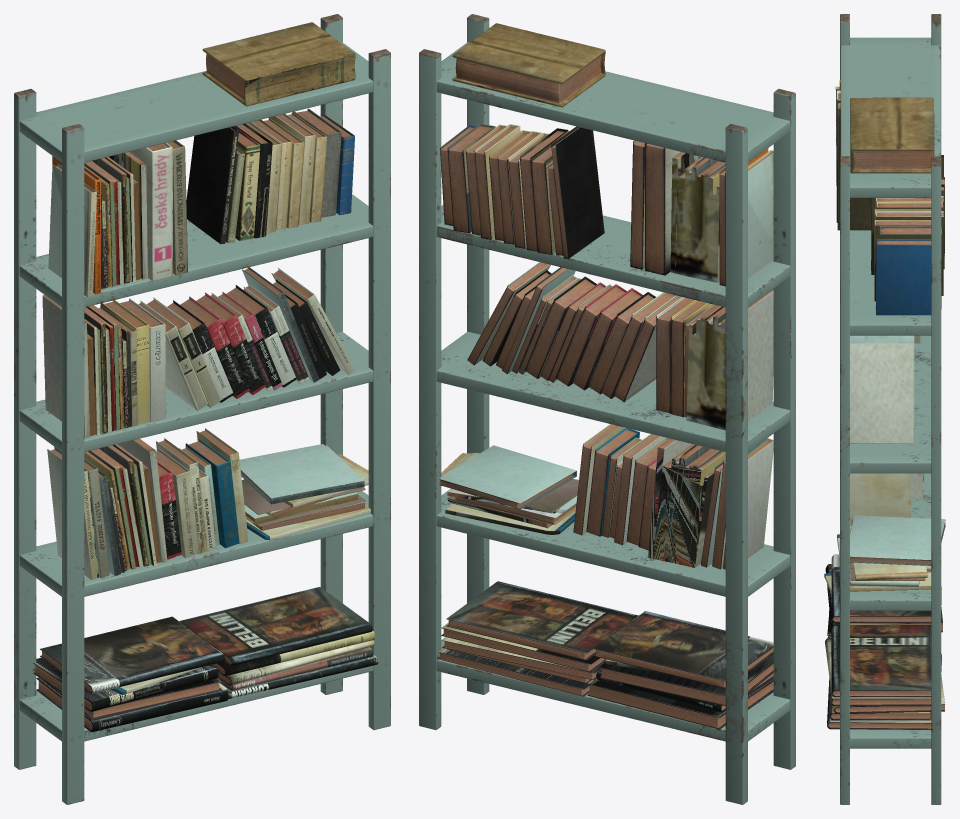
Rendered from book_shelf.glb.
The picture shows the model from 3 angles, left to right: view 1: azimuth 30°, elevation 25°; view 2: azimuth 150°, elevation 25°; view 3: azimuth 270°, elevation 25°; orthographic projection. The views are drawn at different scales.
Visible parts, largest first — view 1: Shelf.V, Shelf.H, OldBigBook, Book.033, Plane, Book.037, Plane.001, Plane.009, Book.028, Book.050, Book.038, Book.041 (+48 smaller); view 2: Shelf.V, Shelf.H, OldBigBook, Book.033, Plane, Book.037, Plane.001, Plane.009, Book.050, Book.028, Book.038, Book.034 (+45 smaller); view 3: Shelf.H, Shelf.V, Book.033, Book.016, OldBigBook, Book.052, Book.028, Book.026, Book.037, Plane.007, Book.039, Book.029 (+15 smaller).
Boxes of the visible parts, left/top/right/bottom form: Shelf.V: left=14, top=14, right=390, bottom=804; Shelf.H: left=19, top=42, right=373, bottom=741; OldBigBook: left=202, top=22, right=355, bottom=106; Book.033: left=179, top=587, right=372, bottom=665; Plane: left=42, top=294, right=132, bottom=438; Book.037: left=40, top=616, right=225, bottom=693; Plane.001: left=84, top=438, right=167, bottom=572; Plane.009: left=84, top=152, right=147, bottom=288; Book.028: left=239, top=444, right=364, bottom=504; Book.050: left=186, top=126, right=238, bottom=244; Book.038: left=129, top=142, right=172, bottom=281; Book.041: left=48, top=163, right=96, bottom=297; Shelf.V: left=419, top=14, right=795, bottom=804; Shelf.H: left=436, top=42, right=790, bottom=741; OldBigBook: left=452, top=23, right=605, bottom=107; Book.033: left=446, top=581, right=638, bottom=660; Plane: left=686, top=289, right=773, bottom=430; Book.037: left=594, top=611, right=773, bottom=688; Plane.001: left=648, top=438, right=725, bottom=567; Plane.009: left=670, top=152, right=725, bottom=282; Book.050: left=551, top=126, right=604, bottom=258; Book.028: left=439, top=445, right=576, bottom=509; Book.038: left=645, top=143, right=680, bottom=275; Book.034: left=587, top=678, right=773, bottom=729; Shelf.H: left=840, top=37, right=940, bottom=748; Shelf.V: left=840, top=14, right=941, bottom=804; Book.033: left=831, top=625, right=931, bottom=697; Book.016: left=850, top=343, right=913, bottom=443; OldBigBook: left=850, top=97, right=934, bottom=173; Book.052: left=875, top=239, right=931, bottom=315; Book.028: left=850, top=515, right=945, bottom=565; Book.026: left=850, top=473, right=911, bottom=525; Book.037: left=831, top=554, right=931, bottom=623; Plane.007: left=850, top=529, right=927, bottom=580; Book.039: left=837, top=103, right=871, bottom=230; Book.029: left=827, top=654, right=941, bottom=729.
Bounding box in the file's own units: 253 × 502 × 86.07.
Materials: 8 (8 with a texture image).
